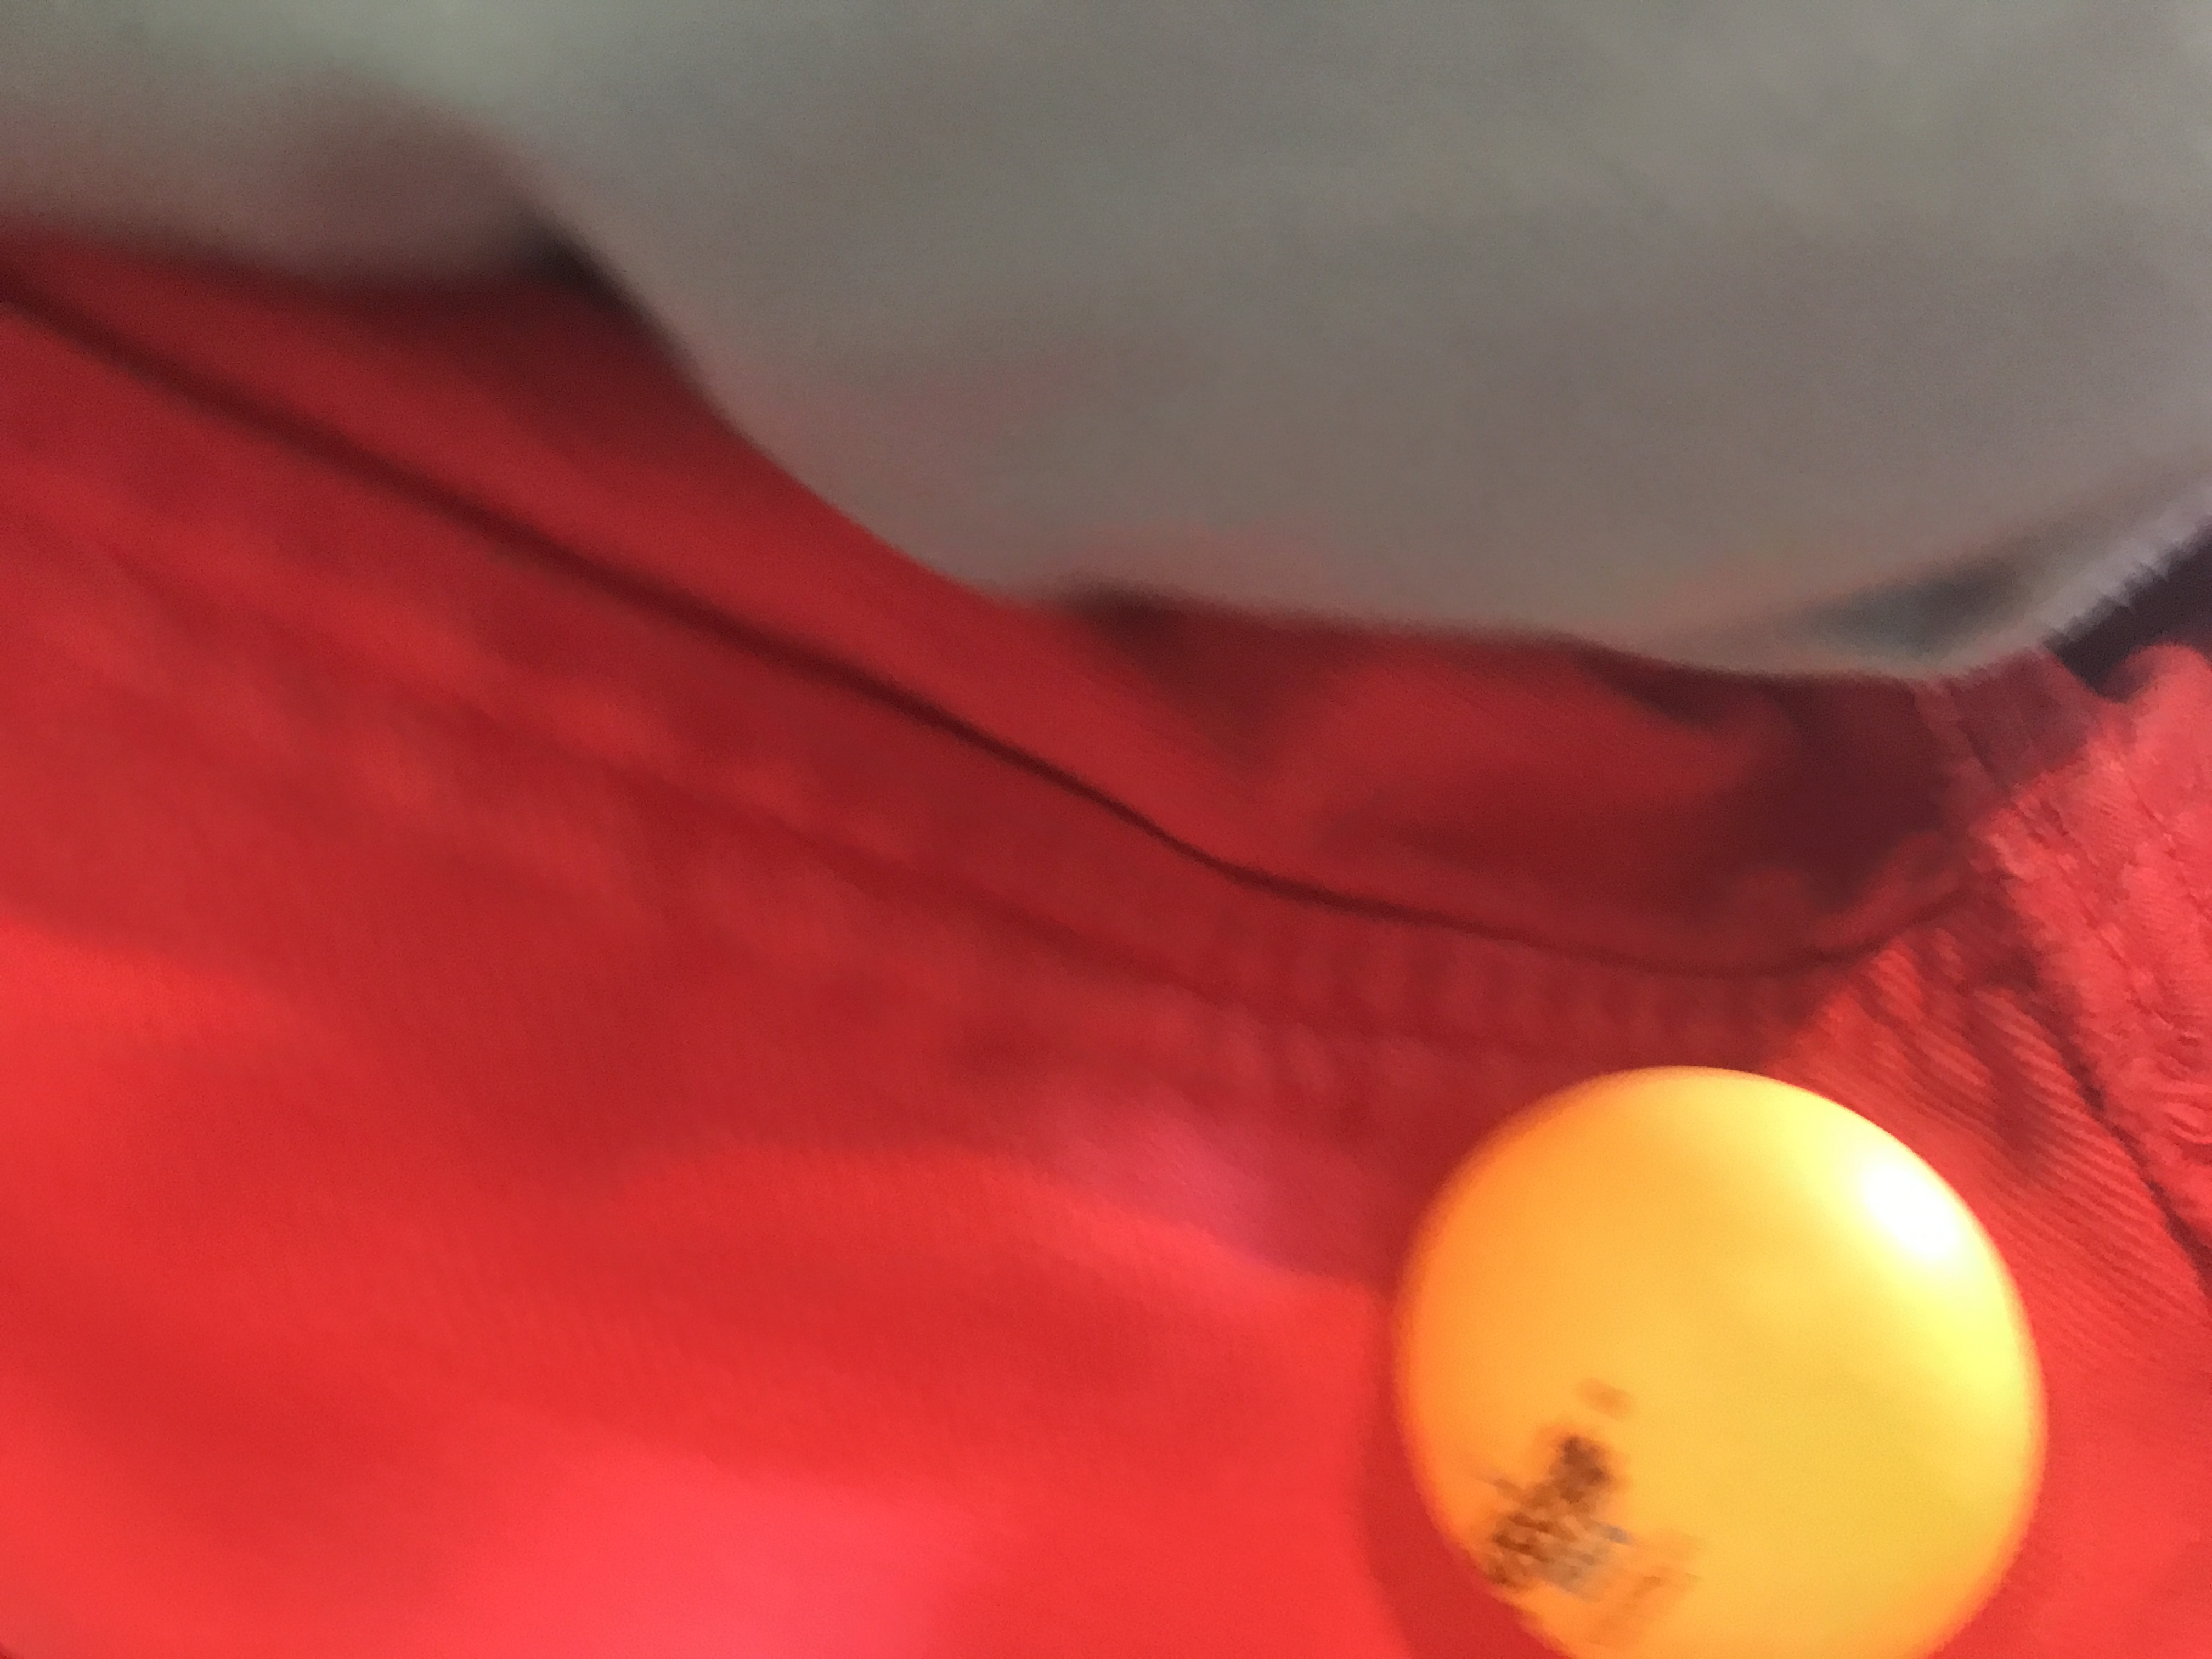pp: (1378, 1066, 2054, 1659)
